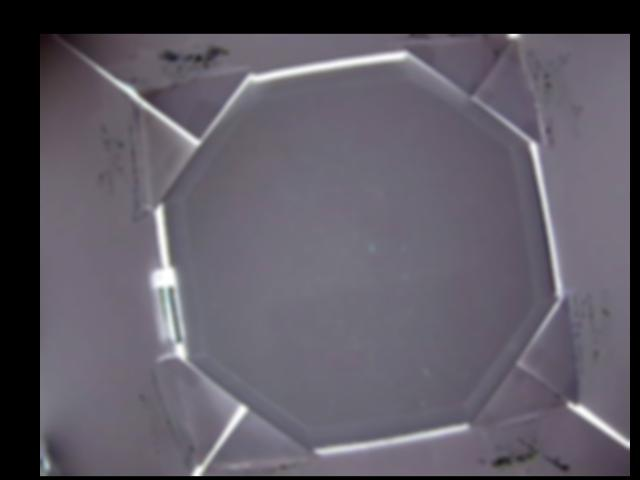Battery: (154, 268, 182, 344)
